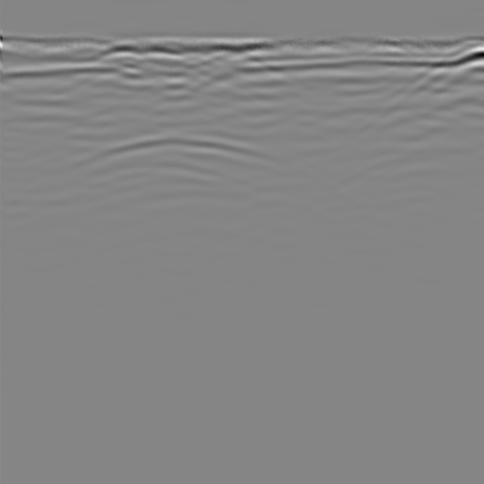hyperbola: (48, 120, 303, 237)
